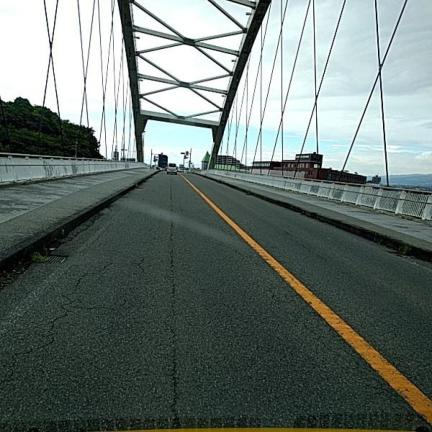Road: (0, 174, 425, 431)
